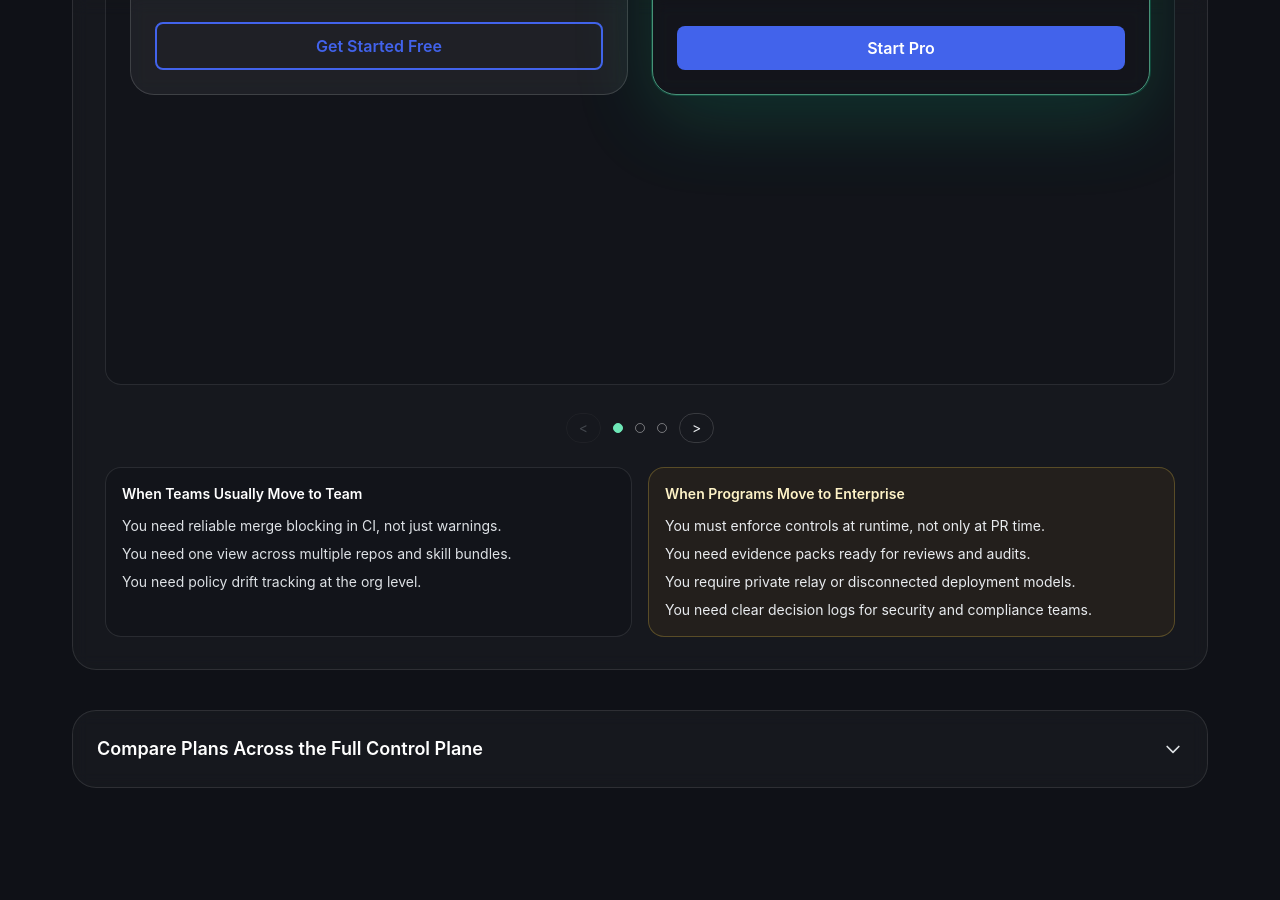
Test case: PricingSection › expands deep matrix and tracks interaction telemetry
The image size is (1280, 900).
(page scrolled)
Click the heading "Compare Plans Across the Full Control Plane" at coordinates (290, 748), box [97,734,1183,762]
(page scrolled)
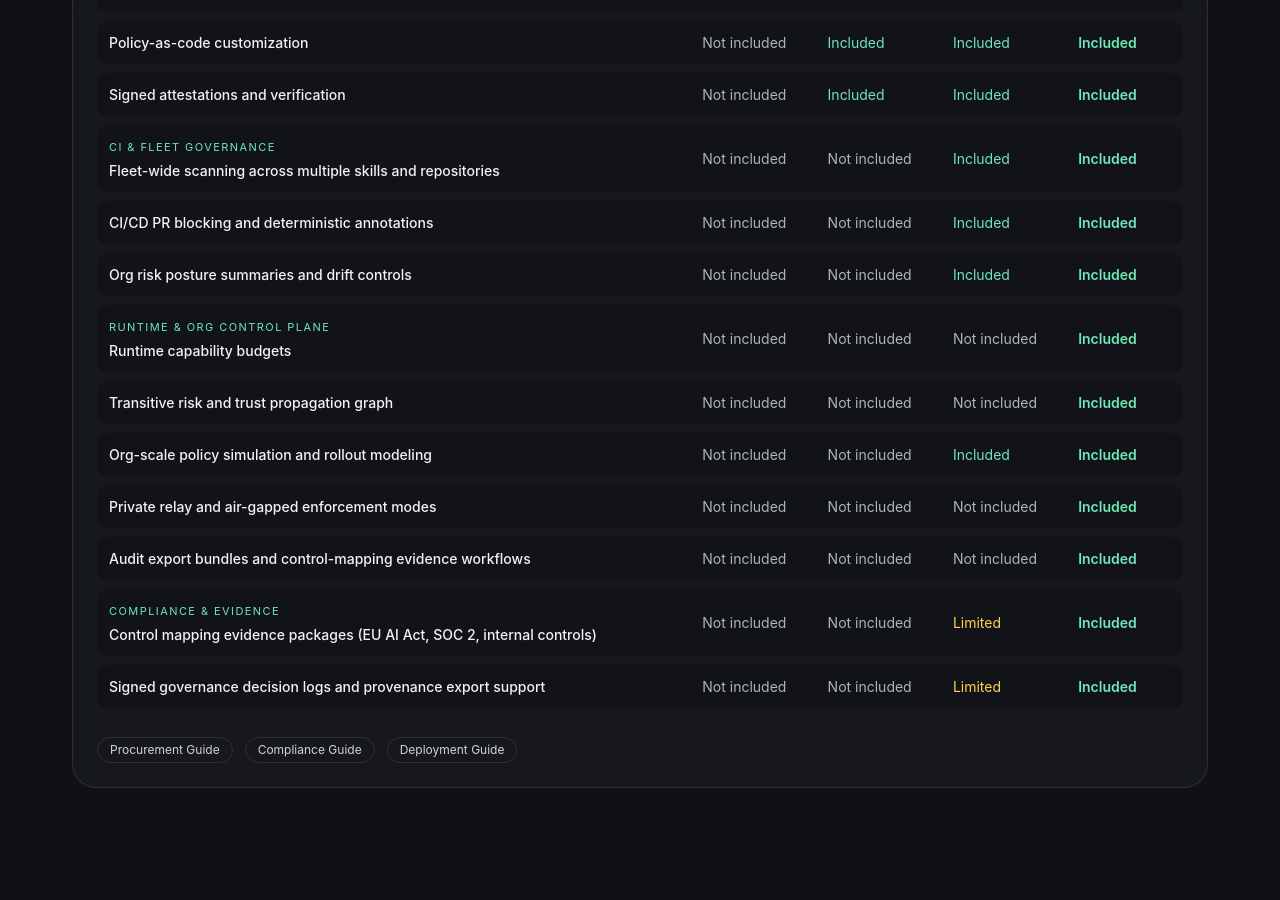
Check: the text "Compliance & Evidence" is shown, box [109,604,280,618]
